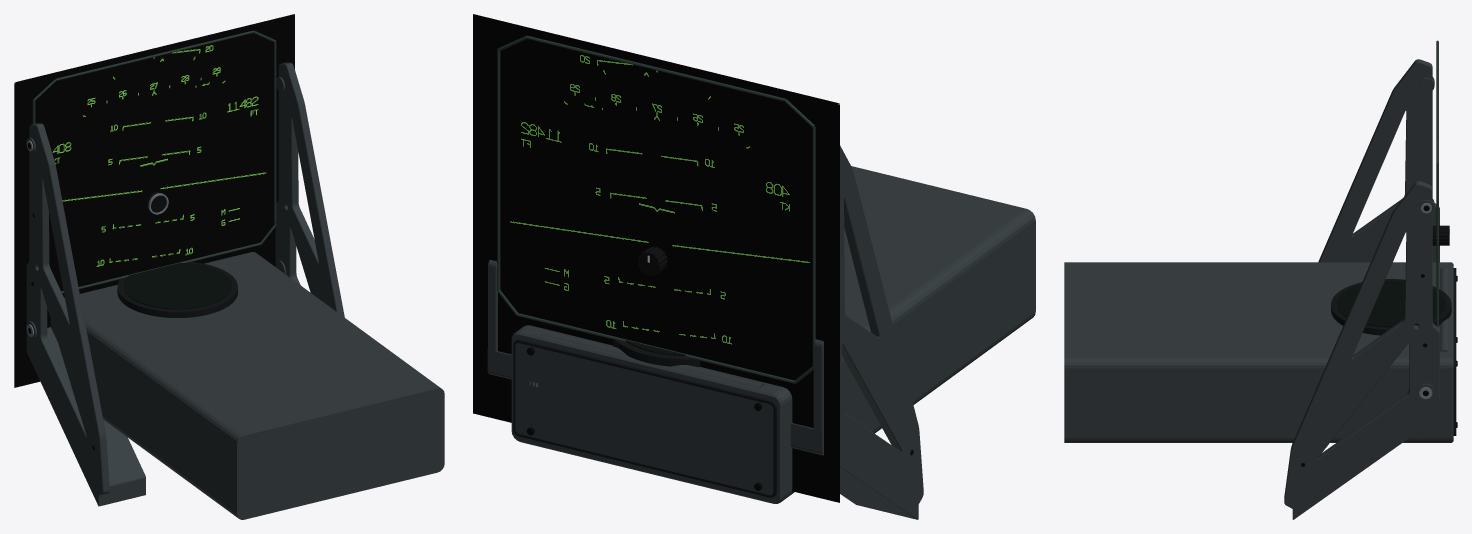
The model's file is MFDStudio.obj.
3 views of the same model, side by side, from view 1: azimuth 30°, elevation 25°; view 2: azimuth 150°, elevation 25°; view 3: azimuth 270°, elevation 25° (orthographic). The views are drawn at different scales.
Parts seen in each view (by area): view 1: MFDStudioBody, MFDStudioScreen, MFDStudioCombinerFrame; view 2: MFDStudioScreen, MFDStudioBody, MFDStudioCombinerFrame, MFDStudioKnob0; view 3: MFDStudioBody, MFDStudioCombinerFrame.
Boxes of the visible parts, bbox=[...] form: MFDStudioBody: bbox=[50, 252, 444, 519]; MFDStudioScreen: bbox=[14, 14, 294, 387]; MFDStudioCombinerFrame: bbox=[26, 30, 344, 506]; MFDStudioScreen: bbox=[473, 14, 839, 502]; MFDStudioBody: bbox=[511, 166, 1035, 503]; MFDStudioCombinerFrame: bbox=[487, 35, 923, 519]; MFDStudioKnob0: bbox=[637, 246, 667, 276]; MFDStudioBody: bbox=[1064, 262, 1456, 442]; MFDStudioCombinerFrame: bbox=[1284, 40, 1439, 519].
Bounding box in the file's own units: 0.245 × 0.3123 × 0.2969.
11 materials, 1 textured.
